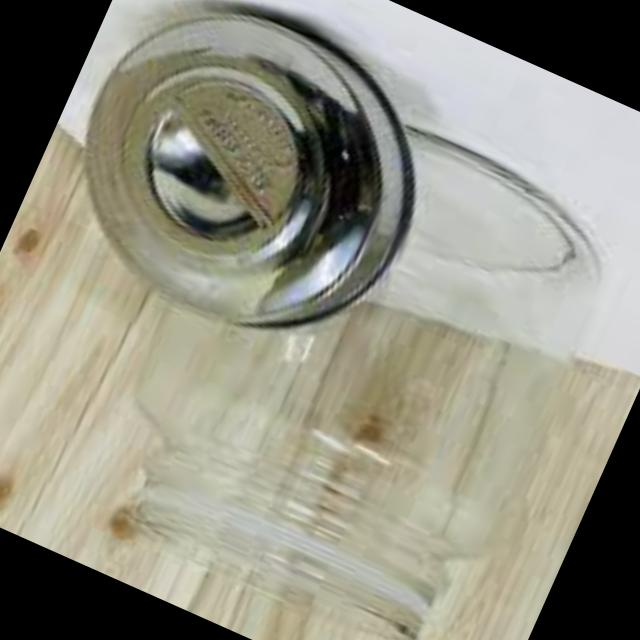ToplesKaca: (80, 65, 640, 640)
